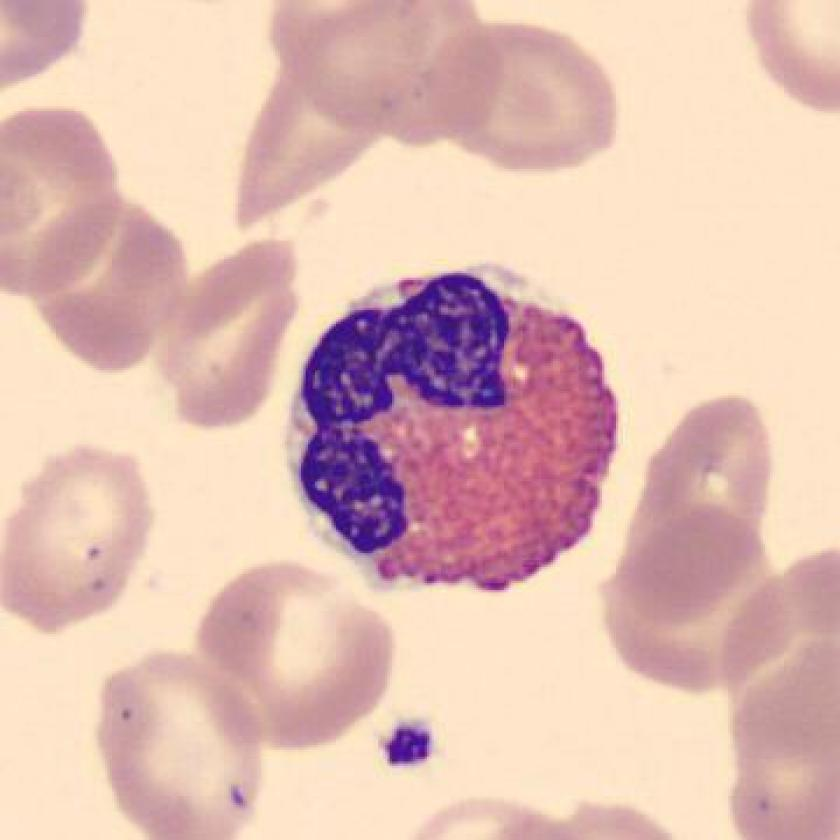eosinophil: (279, 251, 638, 621)
